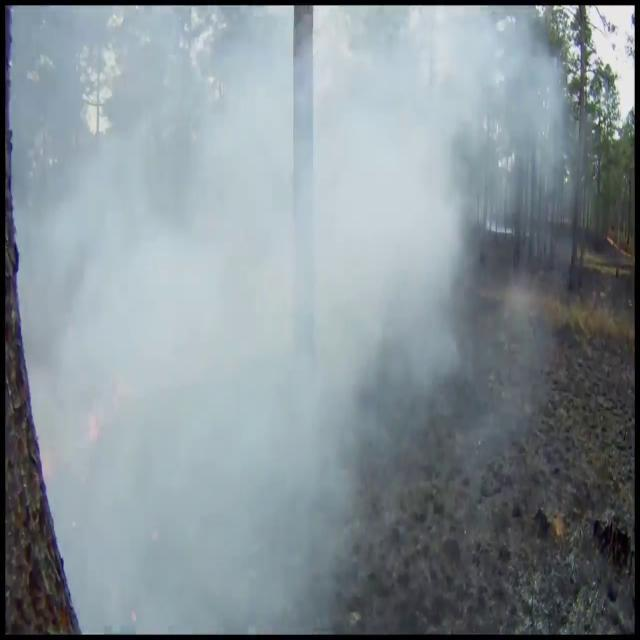Smoke: (12, 4, 594, 616)
